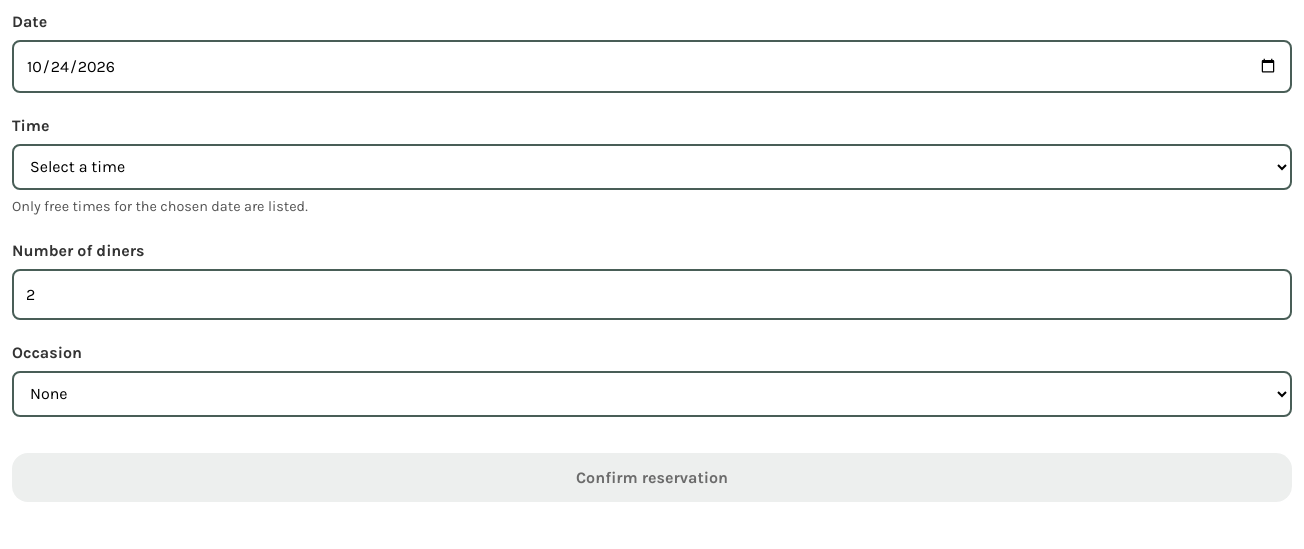
Test: shows an error when the number of diners is too high
Replace the text in the number field labelled "Number of diners" with "11" at [652, 295], box 12,269 -> 1292,320
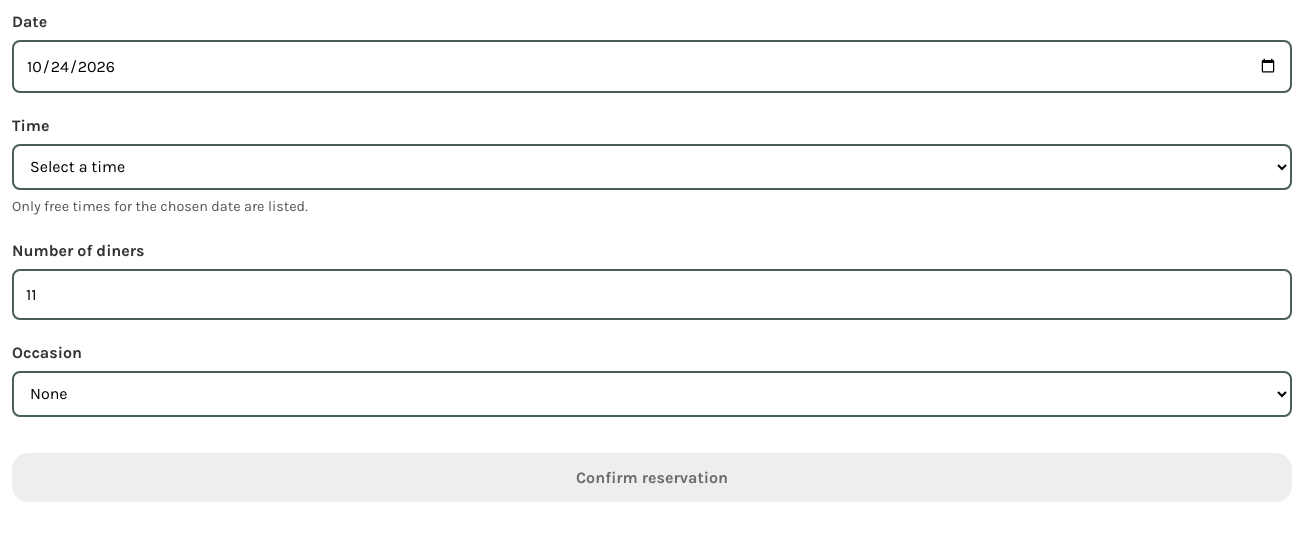
Leave the number field labelled "Number of diners", box 12,269 -> 1292,320
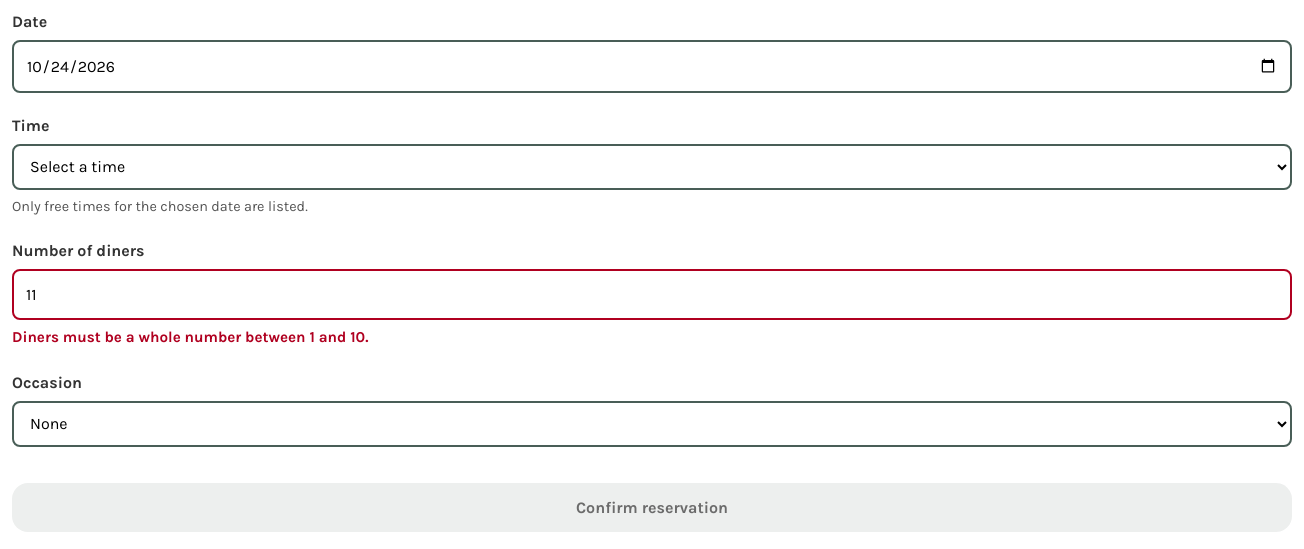
Expected: the text "Diners must be a whole number between 1 and 10." is shown, 12,328 -> 368,346
